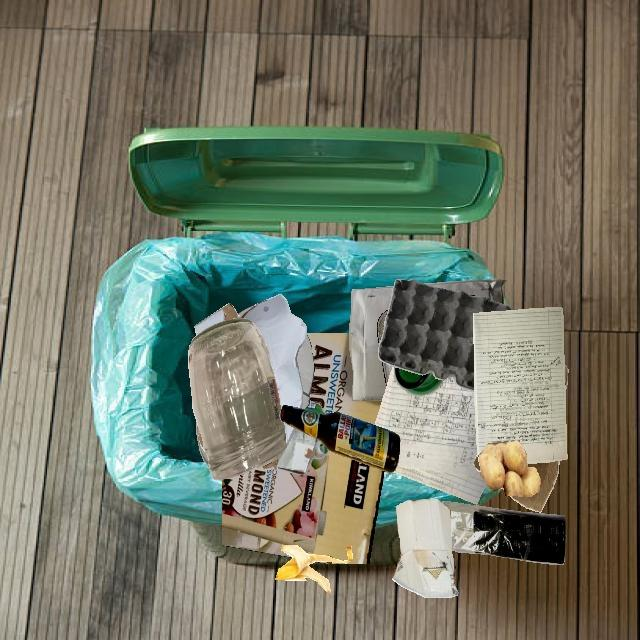biowaste: (275, 545, 352, 594), (479, 441, 540, 497)
cardboard: (222, 450, 384, 564), (378, 279, 513, 391), (194, 294, 307, 410), (477, 365, 564, 485), (218, 323, 285, 433), (307, 333, 382, 425), (392, 500, 458, 597), (277, 429, 329, 475), (515, 460, 559, 513)
glass: (188, 318, 287, 480), (280, 405, 400, 473), (394, 366, 444, 396), (196, 422, 209, 467)
metal: (380, 295, 470, 387)
paper: (375, 366, 487, 504), (473, 307, 567, 468), (349, 286, 394, 401), (424, 279, 506, 304), (296, 334, 314, 409)
plastic: (441, 501, 567, 565)
